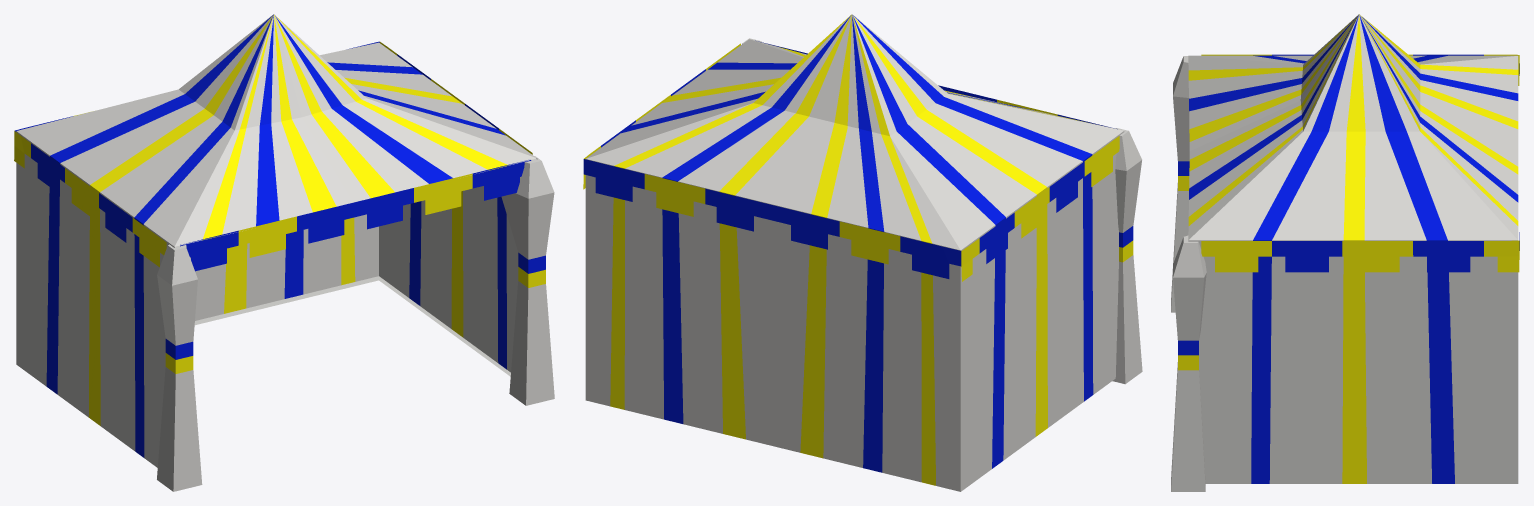
Rendered from tent.fbx.
3 renders of one model, left to right at view 1: azimuth 30°, elevation 25°; view 2: azimuth 150°, elevation 25°; view 3: azimuth 270°, elevation 25°, orthographic. The views are drawn at different scales.
Parts seen in each view (by area): view 1: Tent, Flags; view 2: Tent, Flags; view 3: Tent, Flags.
Part boxes in pixels (bbox=[...]): Tent: bbox=[16, 14, 554, 491]; Flags: bbox=[14, 41, 532, 271]; Tent: bbox=[585, 14, 1142, 491]; Flags: bbox=[583, 40, 1119, 281]; Tent: bbox=[1171, 14, 1518, 491]; Flags: bbox=[1201, 54, 1519, 272].
Size of the model in its own units: 785 by 717 by 595.
